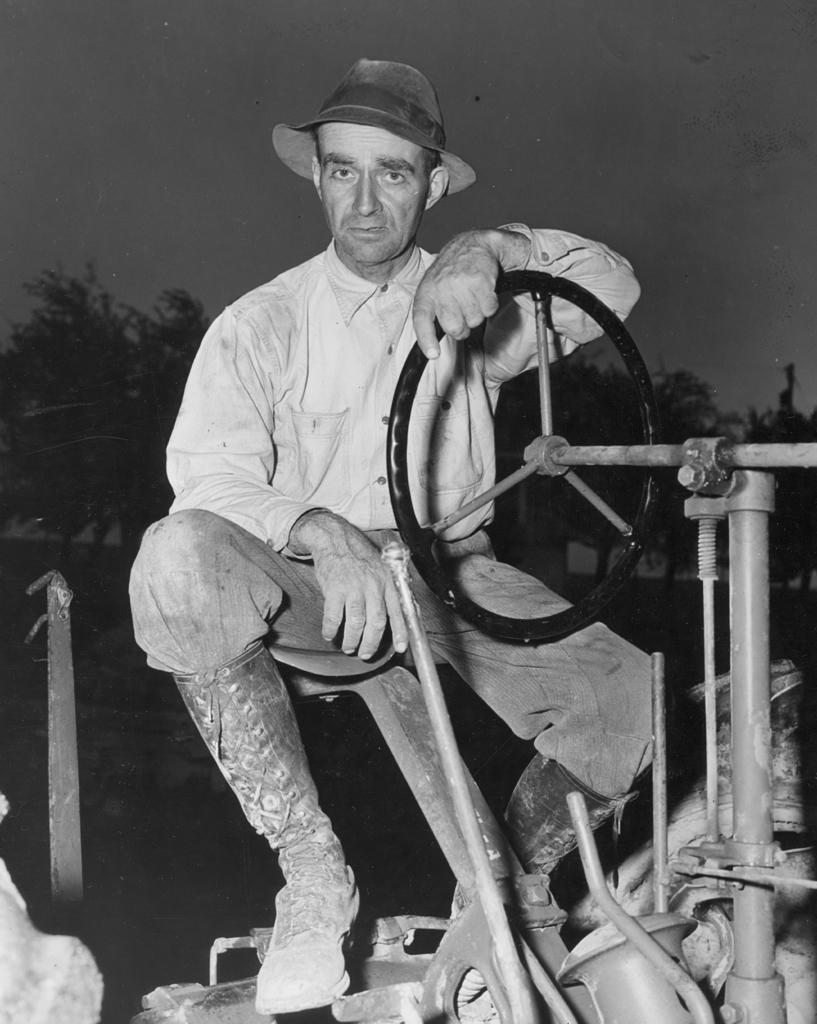Hat: (270, 58, 476, 203)
